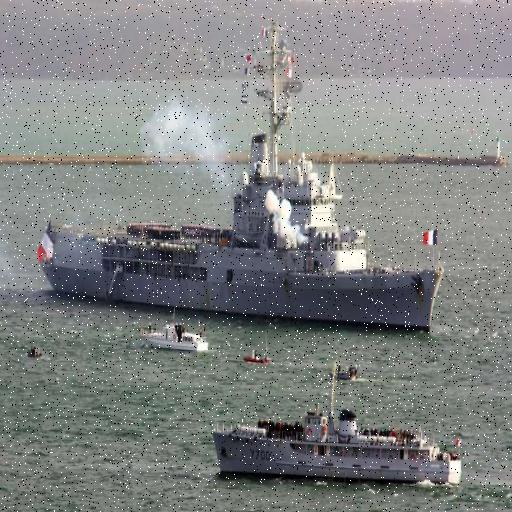Portanaves: (34, 13, 445, 337)
